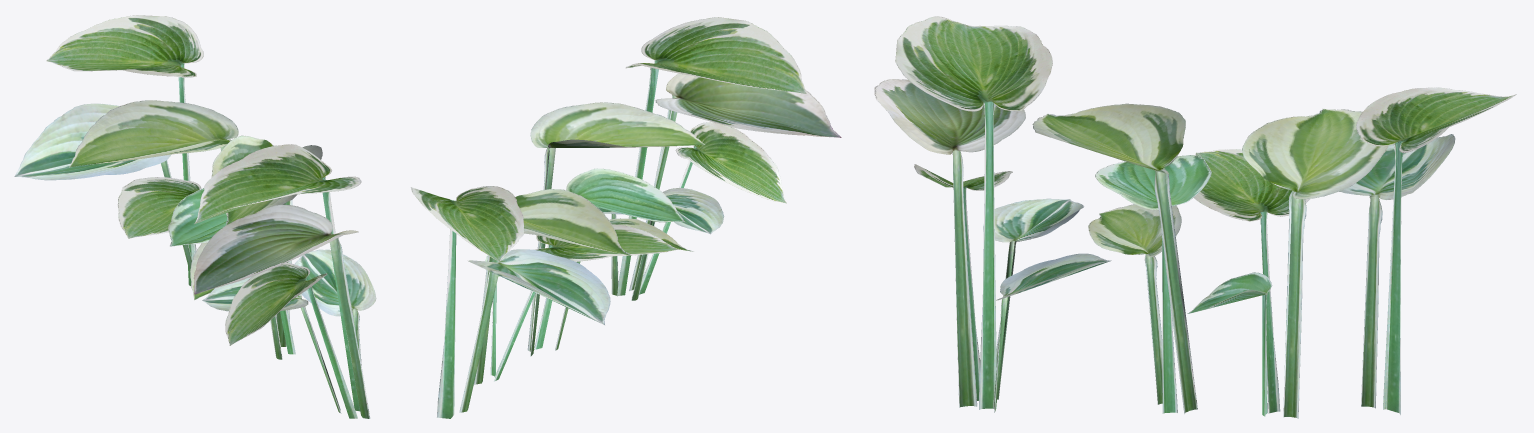
The model's file is plant_small_wg_00_line_00.fbx.
The picture shows the model from 3 angles, left to right: view 1: azimuth 30°, elevation 25°; view 2: azimuth 150°, elevation 25°; view 3: azimuth 270°, elevation 25°; orthographic projection. The views are drawn at different scales.
Visible parts, largest first — view 1: plant_small_wg_00_line_00; view 2: plant_small_wg_00_line_00; view 3: plant_small_wg_00_line_00.
Part boxes in pixels (<box>): plant_small_wg_00_line_00: <box>14,15,376,418</box>; plant_small_wg_00_line_00: <box>411,17,841,418</box>; plant_small_wg_00_line_00: <box>874,16,1516,418</box>.
Bounding box in the file's own units: 38.29 × 43 × 78.67.
1 material, 1 textured.
